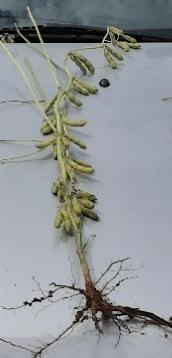soja: (65, 131, 88, 152), (80, 49, 98, 75), (62, 114, 91, 130), (70, 58, 90, 77), (71, 83, 93, 99), (76, 80, 100, 94), (67, 93, 85, 111), (70, 165, 97, 177), (82, 206, 101, 222), (33, 136, 56, 149), (69, 157, 96, 168), (76, 197, 97, 211), (109, 44, 125, 62), (38, 117, 56, 133), (108, 23, 128, 37), (105, 51, 119, 71), (42, 123, 59, 138), (46, 93, 57, 116), (52, 210, 64, 230), (124, 42, 145, 53), (74, 189, 95, 200), (62, 212, 72, 233), (124, 33, 140, 46), (119, 44, 134, 56), (109, 33, 119, 48), (71, 202, 82, 215), (58, 186, 65, 205), (72, 215, 82, 227), (49, 183, 59, 194), (54, 148, 59, 161)
